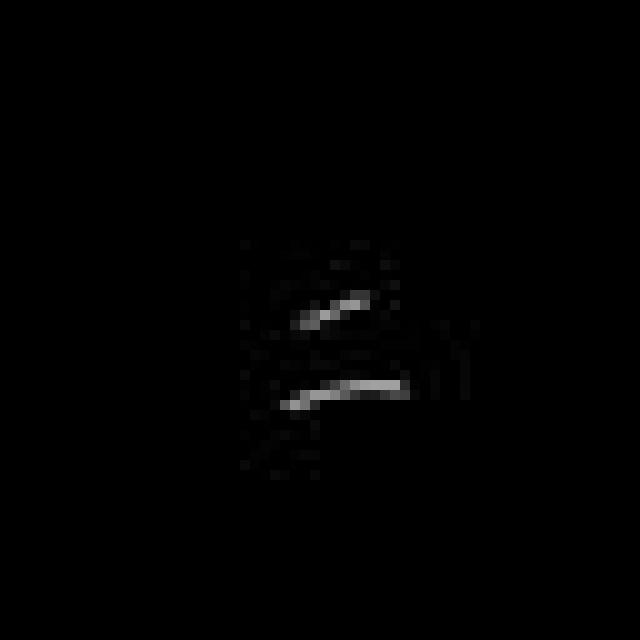2 -two-: (272, 288, 414, 433)
